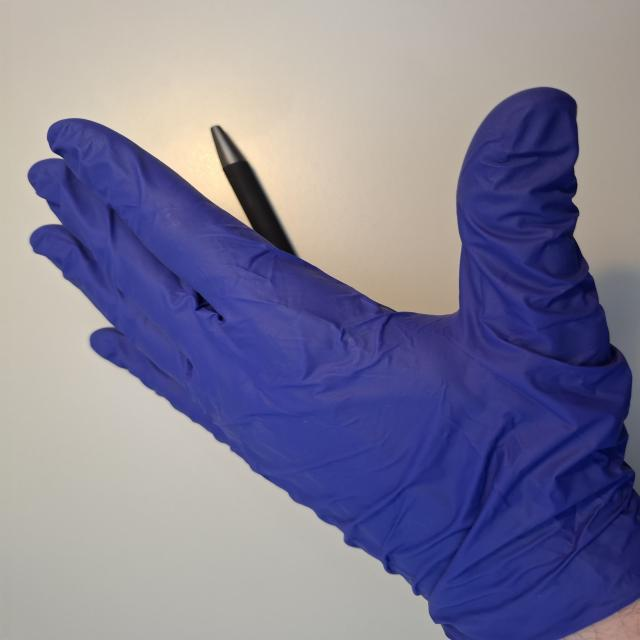glove_on: (23, 83, 640, 633)
